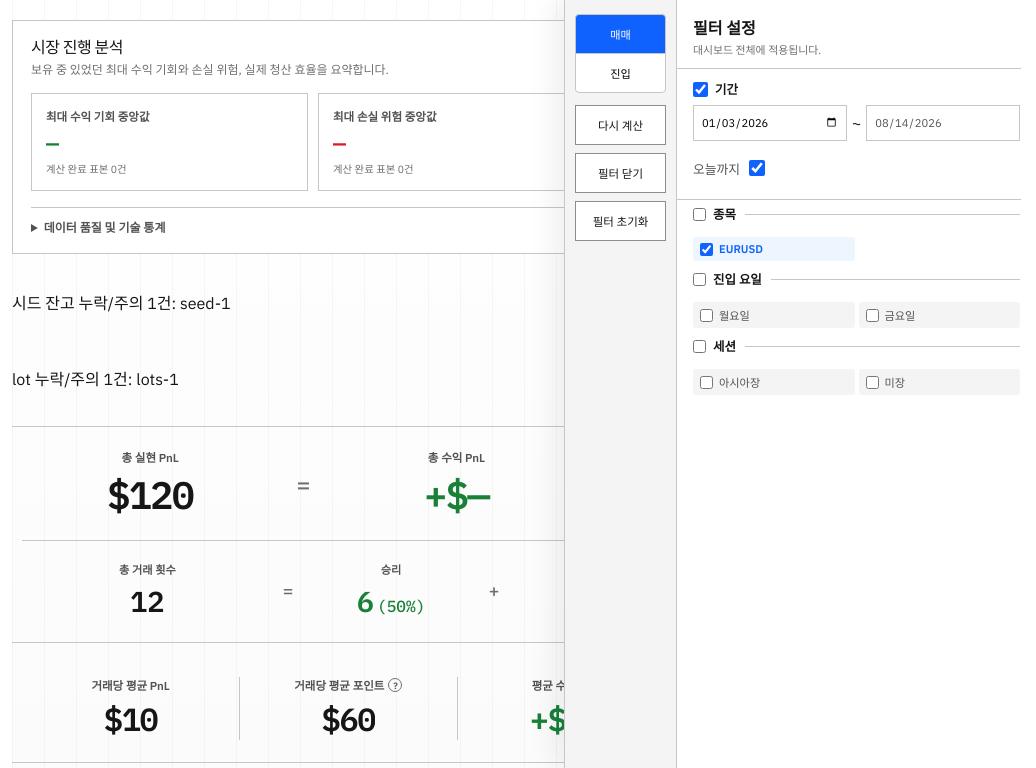
Test: StatsPage › caches detailed selections and clears them with reset
expect the checkbox labelled "EURUSD" is checked: met, box left=700, top=242, right=713, bottom=256
Click the button "필터 초기화": (620, 221) left=575, top=201, right=666, bottom=241
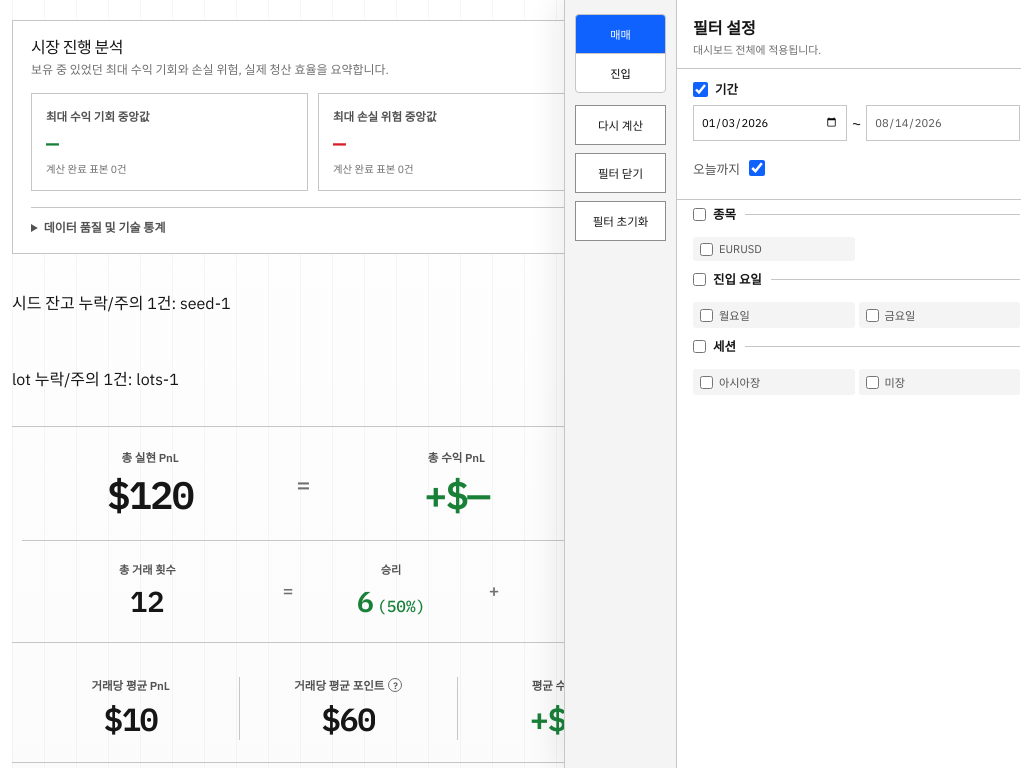
expect the checkbox labelled "EURUSD" is not checked: met, box left=700, top=242, right=713, bottom=256
